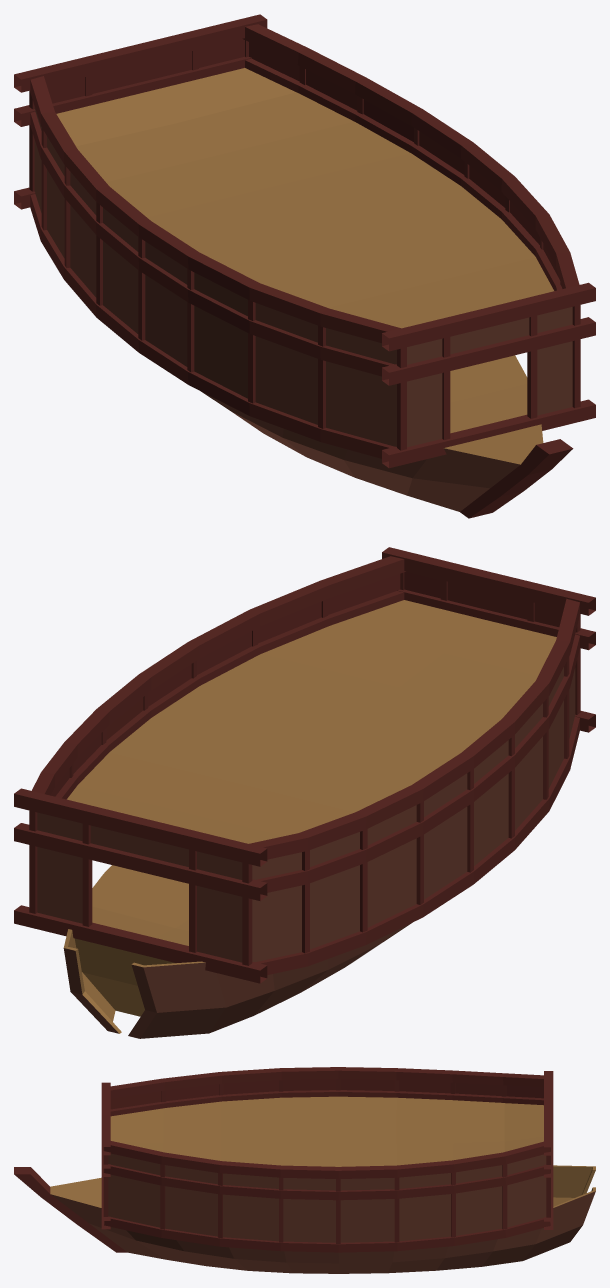
Rendered from seki.glb.
The picture shows the model from 3 angles, top to bottom: view 1: azimuth 30°, elevation 25°; view 2: azimuth 150°, elevation 25°; view 3: azimuth 270°, elevation 25°; orthographic projection. The views are drawn at different scales.
Visible parts, largest first — view 1: seki_hull.008, seki_hull.006, seki_rail_upper.001, seki_hull.002, seki_rail_lower.002, seki_hull.005, seki_hull.007, seki_hull.009, seki_rail_lower.001, seki_hull.010, seki_hull.004, seki_front.001; view 2: seki_hull.008, seki_hull.006, seki_rail_upper.001, seki_hull.002, seki_rail_lower.002, seki_hull.005, seki_hull.007, seki_hull.009, seki_hull.010, seki_rail_lower.001, seki_hull.004, seki_hull.003 (+1 smaller); view 3: seki_hull.008, seki_hull.006, seki_hull.002, seki_rail_upper.001, seki_rail_lower.002, seki_hull.009, seki_rail_lower.001, seki_hull.007, seki_hull.005, seki_tail.001, seki_front.001, seki_hull.004.
Part boxes in pixels (left/top/right/bottom): seki_hull.008: left=56, top=68, right=553, bottom=328; seki_hull.006: left=34, top=107, right=572, bottom=447; seki_rail_upper.001: left=30, top=24, right=579, bottom=343; seki_hull.002: left=201, top=355, right=543, bottom=511; seki_rail_lower.002: left=30, top=58, right=562, bottom=376; seki_hull.005: left=14, top=14, right=595, bottom=351; seki_hull.007: left=29, top=40, right=580, bottom=450; seki_hull.009: left=47, top=39, right=559, bottom=278; seki_rail_lower.001: left=30, top=194, right=394, bottom=458; seki_hull.010: left=14, top=56, right=595, bottom=385; seki_hull.004: left=14, top=187, right=595, bottom=468; seki_front.001: left=460, top=439, right=573, bottom=518; seki_hull.008: left=67, top=600, right=556, bottom=843; seki_hull.006: left=37, top=667, right=575, bottom=962; seki_rail_upper.001: left=31, top=556, right=579, bottom=859; seki_hull.002: left=63, top=865, right=412, bottom=1038; seki_rail_lower.002: left=55, top=591, right=579, bottom=892; seki_hull.005: left=14, top=547, right=595, bottom=866; seki_hull.007: left=29, top=572, right=580, bottom=965; seki_hull.009: left=50, top=571, right=563, bottom=796; seki_hull.010: left=14, top=589, right=595, bottom=900; seki_rail_lower.001: left=256, top=716, right=579, bottom=974; seki_hull.004: left=14, top=711, right=595, bottom=983; seki_hull.003: left=74, top=938, right=175, bottom=1016; seki_hull.008: left=110, top=1096, right=543, bottom=1166; seki_hull.006: left=108, top=1153, right=546, bottom=1242; seki_hull.002: left=50, top=1177, right=595, bottom=1273; seki_rail_upper.001: left=104, top=1067, right=550, bottom=1178; seki_rail_lower.002: left=104, top=1090, right=550, bottom=1200; seki_hull.009: left=110, top=1079, right=543, bottom=1109; seki_rail_lower.001: left=104, top=1217, right=550, bottom=1252; seki_hull.007: left=103, top=1079, right=550, bottom=1243; seki_hull.005: left=101, top=1071, right=553, bottom=1155; seki_tail.001: left=553, top=1165, right=595, bottom=1207; seki_front.001: left=14, top=1167, right=127, bottom=1252; seki_hull.004: left=101, top=1177, right=553, bottom=1229.
Bounding box in the file's own units: 3.79 × 2.38 × 8.98.
